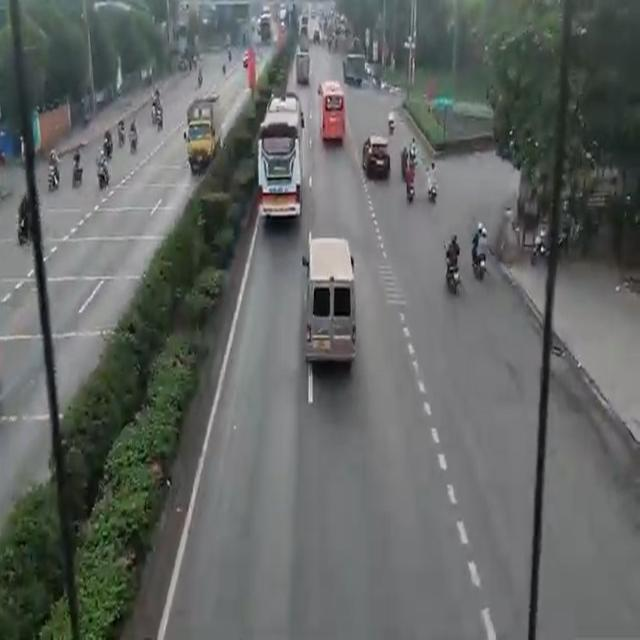bus: (260, 90, 300, 226), (316, 80, 350, 152)
car: (305, 236, 355, 360)
motor: (474, 220, 491, 282), (442, 240, 459, 294), (425, 159, 441, 211), (45, 143, 59, 199), (402, 161, 416, 211)
truck: (187, 101, 220, 176)
